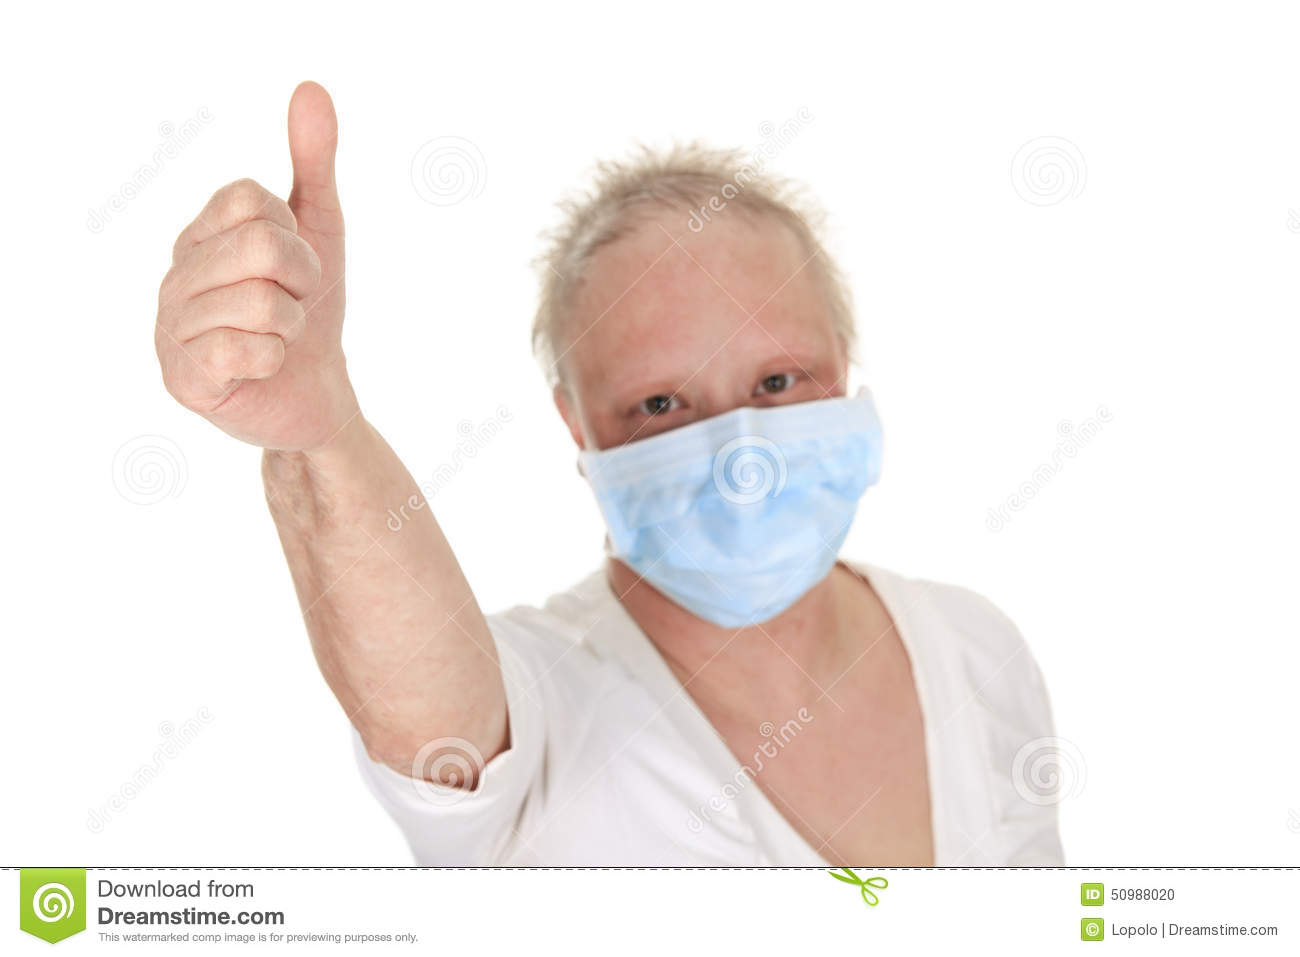mask: (586, 403, 880, 631)
